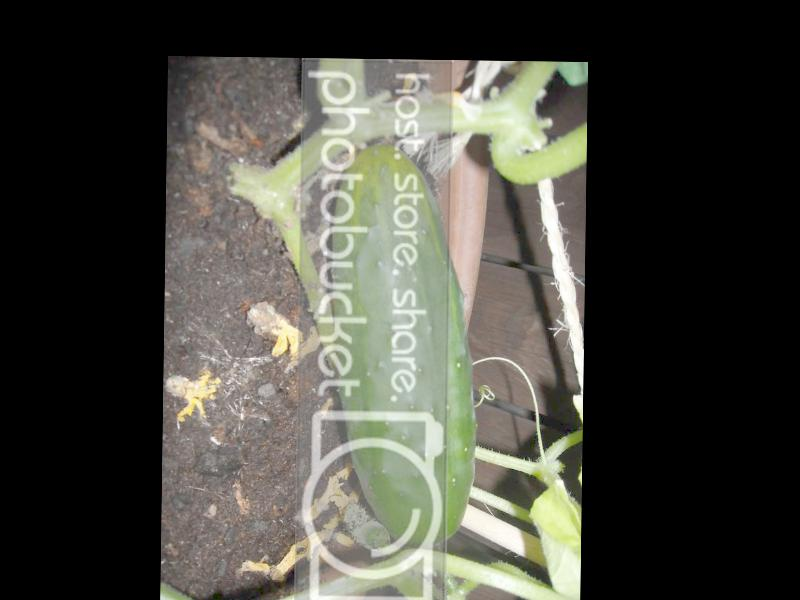Cucumber: (324, 144, 478, 545)
